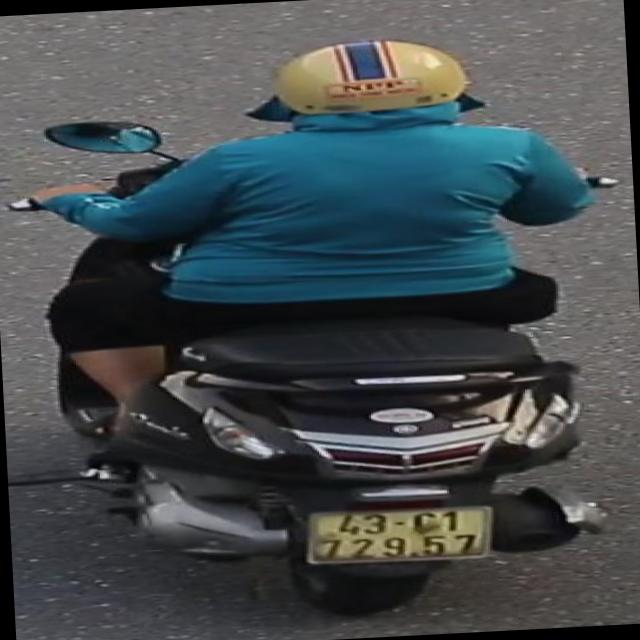LP: (296, 499, 506, 574)
helmet: (248, 31, 478, 146)
